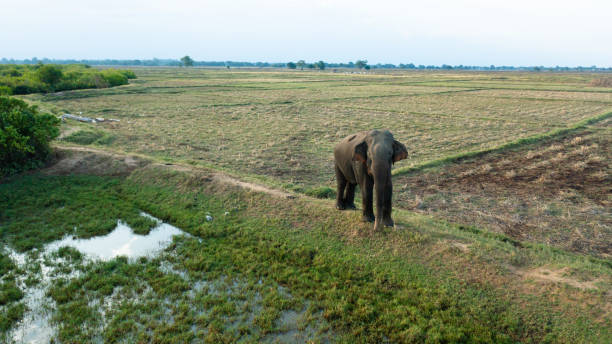elephant: (322, 122, 423, 238)
